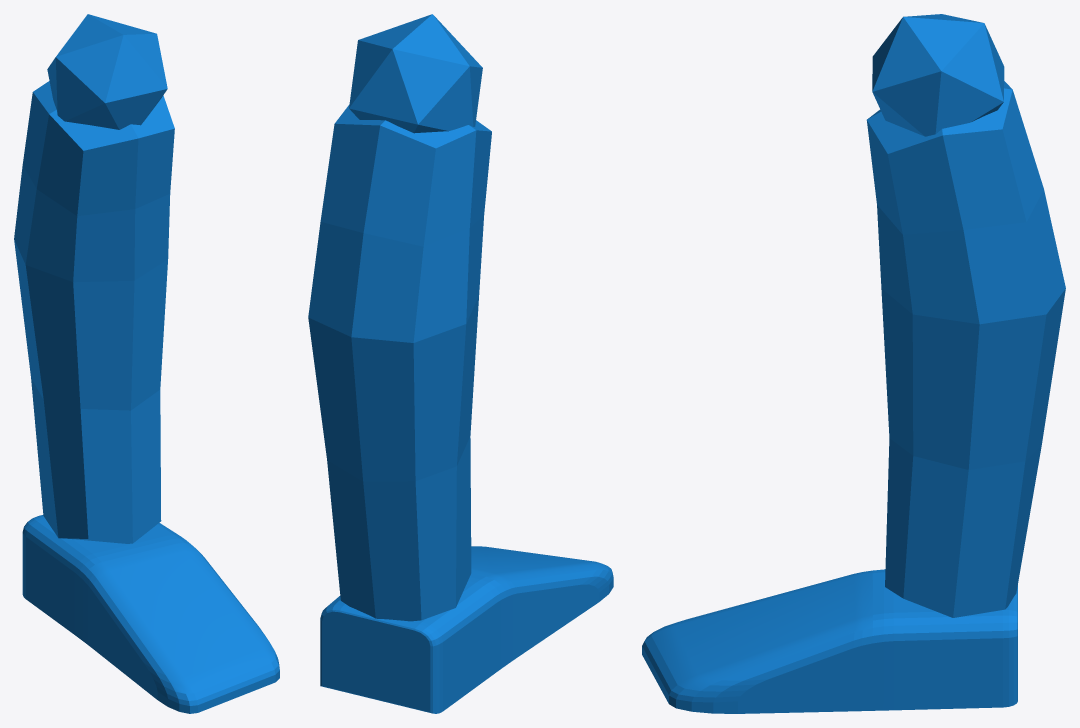
Rendered from RIGHT_CALF.fbx.
3 renders of one model, left to right at view 1: azimuth 30°, elevation 25°; view 2: azimuth 150°, elevation 25°; view 3: azimuth 270°, elevation 25°, orthographic. The views are drawn at different scales.
Parts seen in each view (by area): view 1: RIGHT_KNEE; view 2: RIGHT_KNEE; view 3: RIGHT_KNEE.
Part boxes in pixels (x1,y1,x2,y2): RIGHT_KNEE: (14, 14, 279, 713); RIGHT_KNEE: (308, 14, 613, 713); RIGHT_KNEE: (642, 14, 1065, 713).
Bounding box in the file's own units: 0.2213 × 0.9432 × 0.5486.
